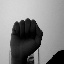a: (8, 17, 44, 53)
